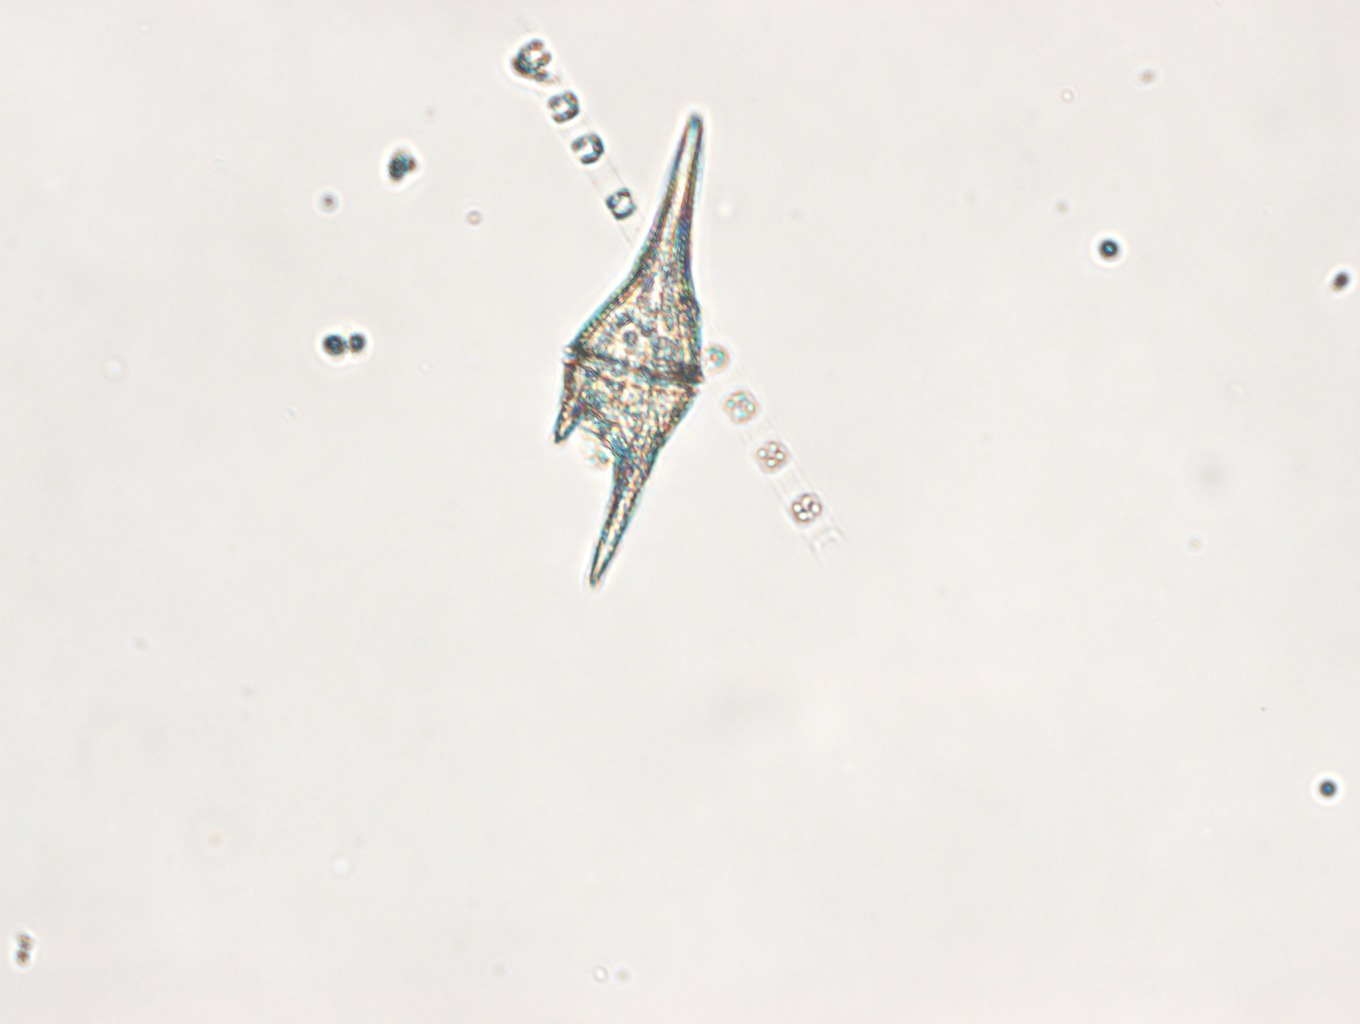ceratium furca: (552, 110, 704, 588)
skeletonema: (510, 30, 851, 567)
